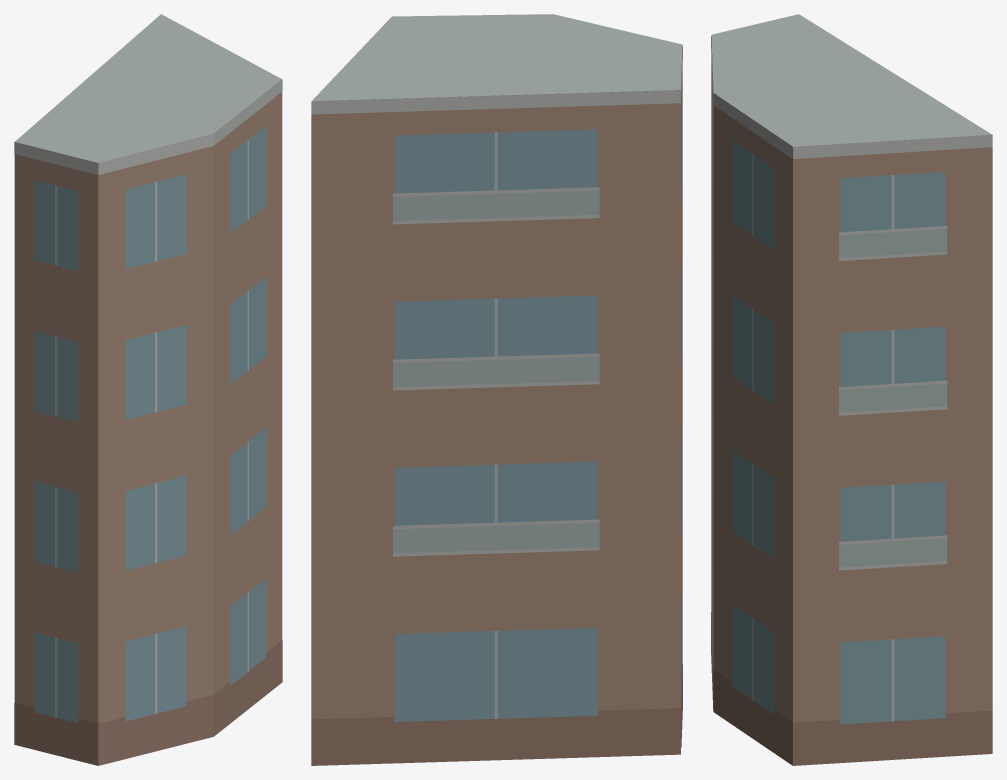
The model's file is survey-upis-32796014.glb.
3 views of the same model, side by side, from view 1: azimuth 30°, elevation 25°; view 2: azimuth 150°, elevation 25°; view 3: azimuth 270°, elevation 25° (orthographic). The views are drawn at different scales.
Parts seen in each view (by area): view 1: survey-upis-32796014.tmp; view 2: survey-upis-32796014.tmp; view 3: survey-upis-32796014.tmp.
Part boxes in pixels (x1,y1,x2,y2): survey-upis-32796014.tmp: [14, 14, 282, 765]; survey-upis-32796014.tmp: [311, 14, 682, 765]; survey-upis-32796014.tmp: [711, 14, 992, 765].
Size of the model in its own units: 5.62 by 12.2 by 5.03.
